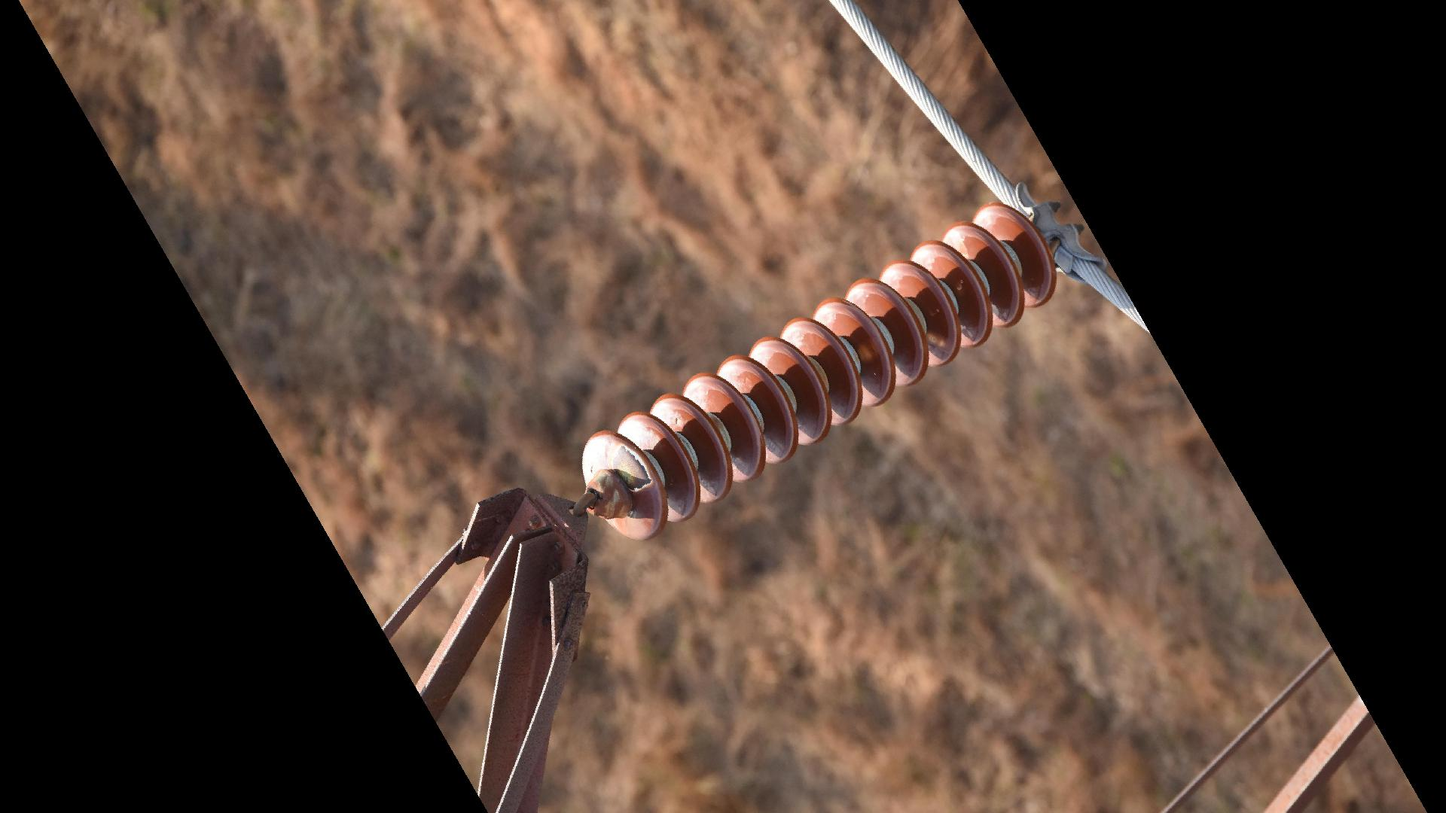insulator: (577, 199, 1060, 545)
insulator_flashover: (609, 443, 652, 494)
